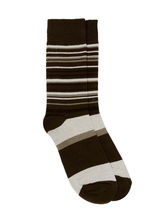sock: (41, 16, 136, 208)
